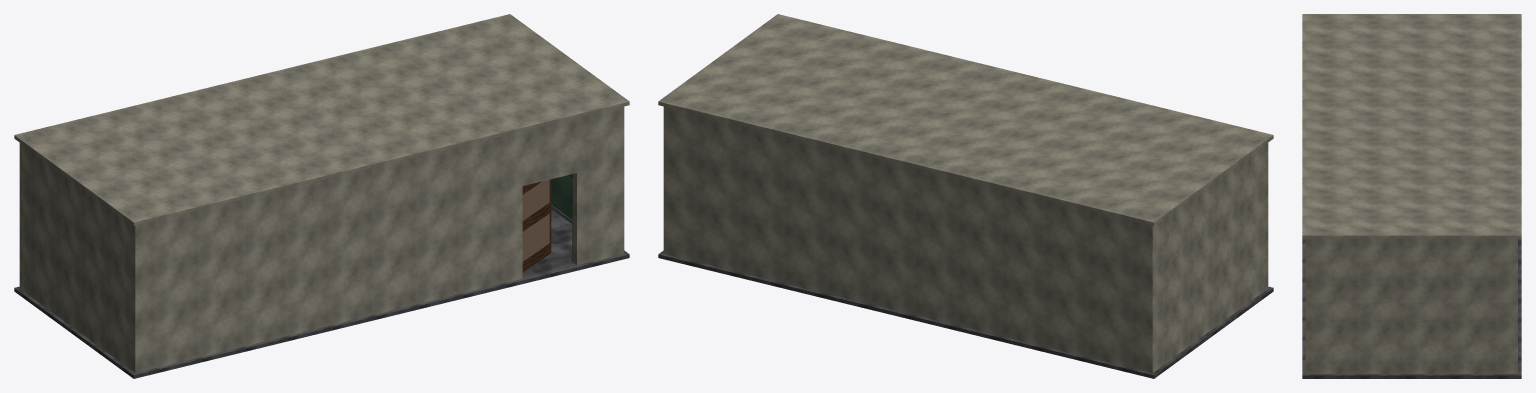
File: ep_metro.glb
3 views of the same model, side by side, from view 1: azimuth 30°, elevation 25°; view 2: azimuth 150°, elevation 25°; view 3: azimuth 270°, elevation 25° (orthographic). The views are drawn at different scales.
Parts seen in each view (by area): view 1: plaster-col, concrete-col, flat, wood_dark, paint_green; view 2: plaster-col, concrete-col; view 3: plaster-col, concrete-col.
Boxes of the visible parts, x1,y1,x2,y2 form: plaster-col: [14, 14, 629, 372]; concrete-col: [14, 209, 629, 378]; flat: [522, 179, 549, 261]; wood_dark: [522, 179, 551, 272]; paint_green: [551, 174, 572, 258]; plaster-col: [658, 14, 1273, 372]; concrete-col: [658, 250, 1273, 378]; plaster-col: [1302, 14, 1521, 374]; concrete-col: [1302, 239, 1521, 378].
Size of the model in its own units: 14.6 by 4.4 by 6.1.
Materials: 25 (9 with a texture image).
